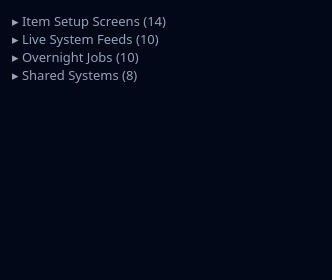
TreeView › expanding a category reveals its labeled nodes
Click the text "Overnight Jobs".
click(67, 57)  # box [22,48,112,66]
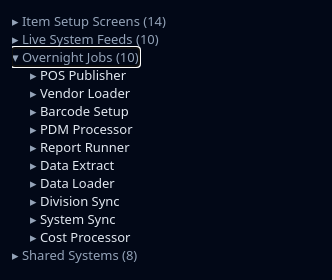
Check: the button "POS Publisher" is shown, box [40,66,126,84]
